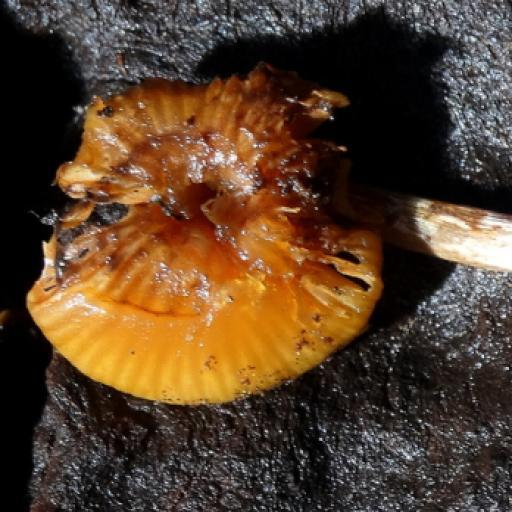mushroom: (26, 60, 505, 414)
